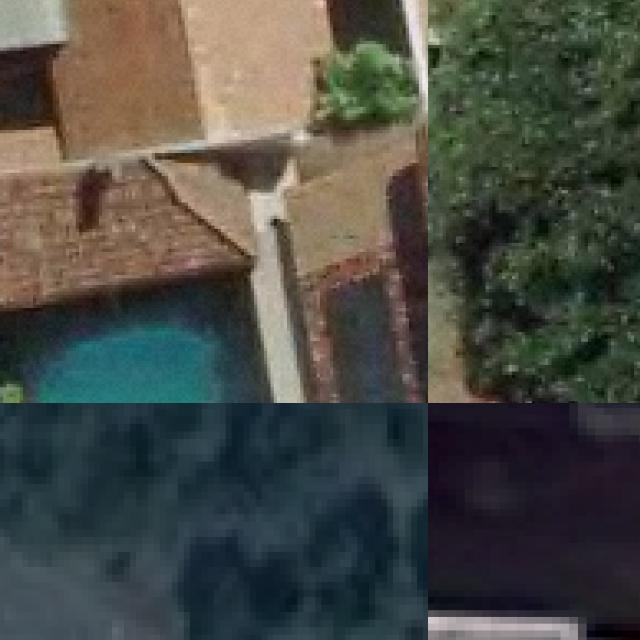trees: (1, 404, 429, 640), (429, 1, 640, 404), (324, 58, 420, 129)
